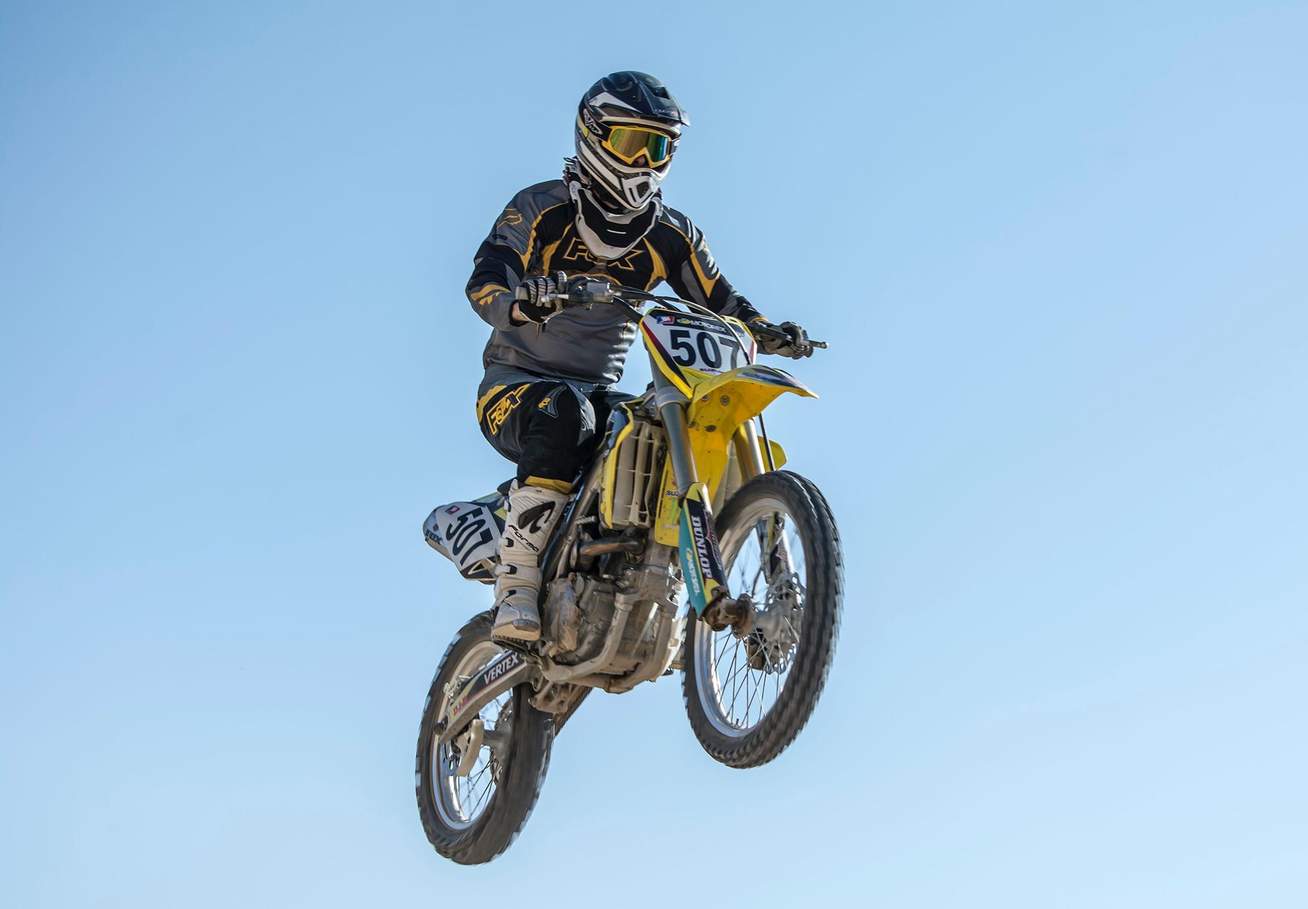helmet: (574, 70, 692, 212)
